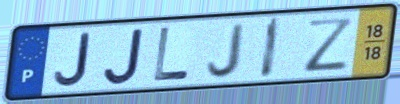I: (258, 15, 284, 80)
J: (102, 26, 146, 86), (205, 21, 249, 80), (52, 31, 92, 89)
L: (151, 26, 192, 84)
Z: (304, 15, 358, 74)
